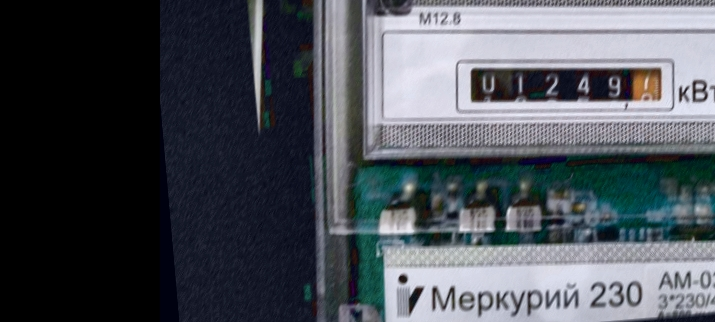0: (479, 67, 499, 94)
1: (512, 68, 528, 95)
2: (542, 71, 561, 98)
4: (575, 69, 593, 95)
7: (639, 64, 656, 92)
9: (604, 71, 623, 99)
screen: (451, 39, 681, 132)
